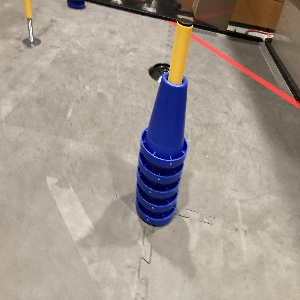Blue_5: (135, 70, 187, 227)
